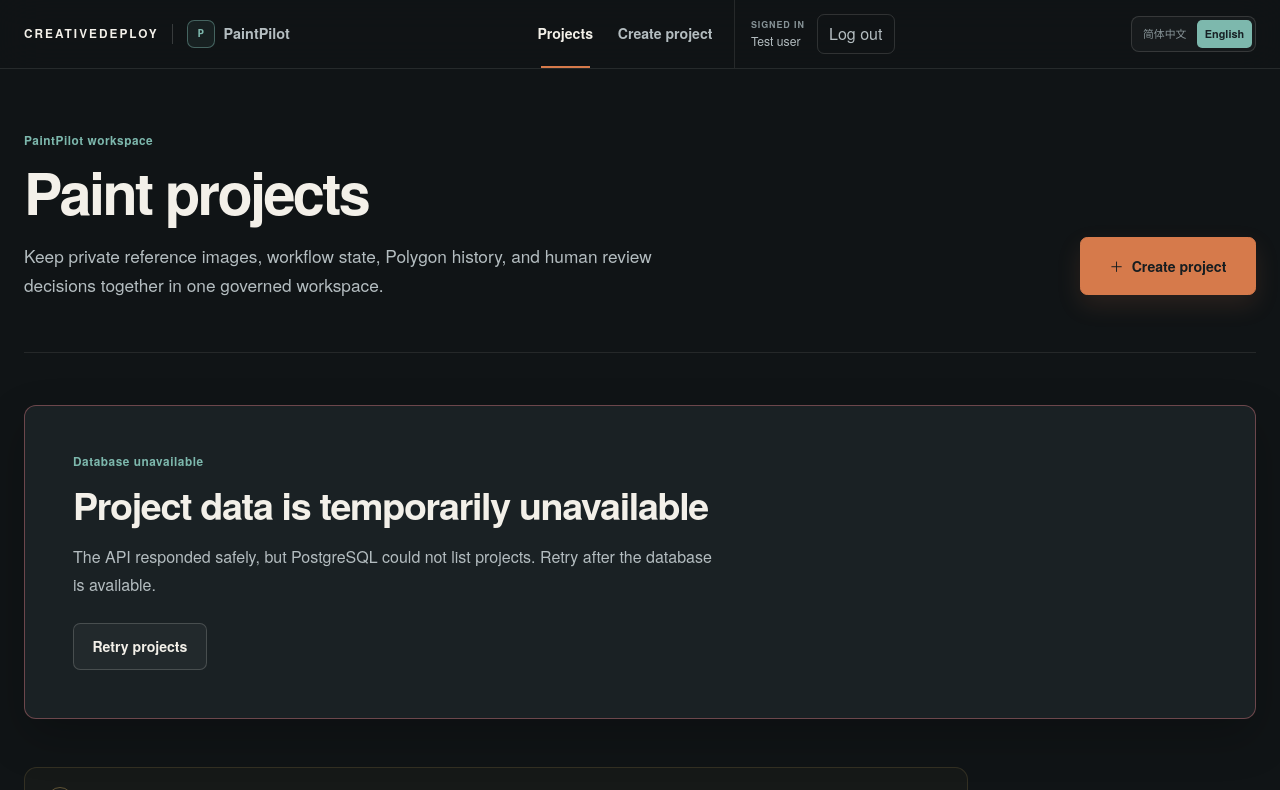
Test: Projects workspace › distinguishes a database 503 from an empty list and retries only on activation
Expected: the heading "Project data is temporarily unavailable" is shown, [73, 478, 708, 532]
Expected: the heading "No paint projects yet" is not shown
Click the button "Retry projects" at (140, 646), box [73, 623, 207, 670]
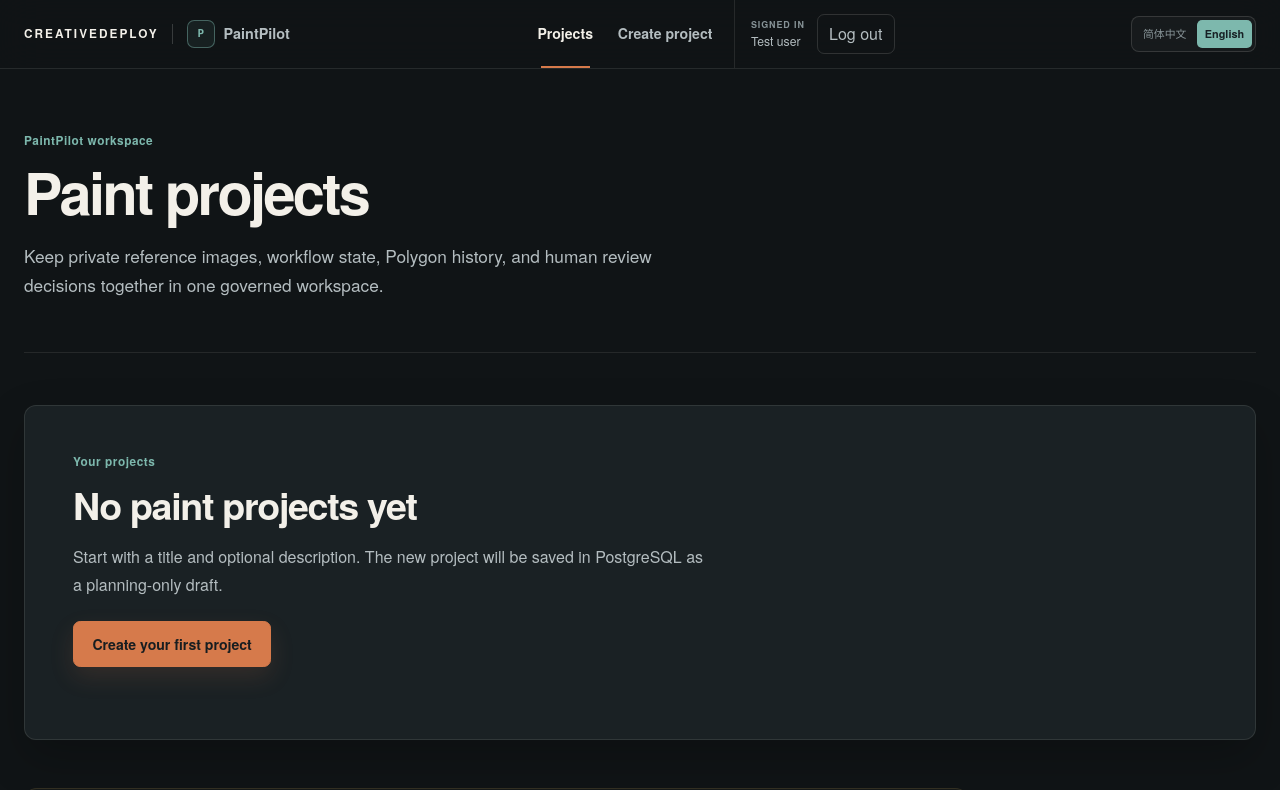
Result: the heading "No paint projects yet" is shown at [73, 478, 417, 532]
